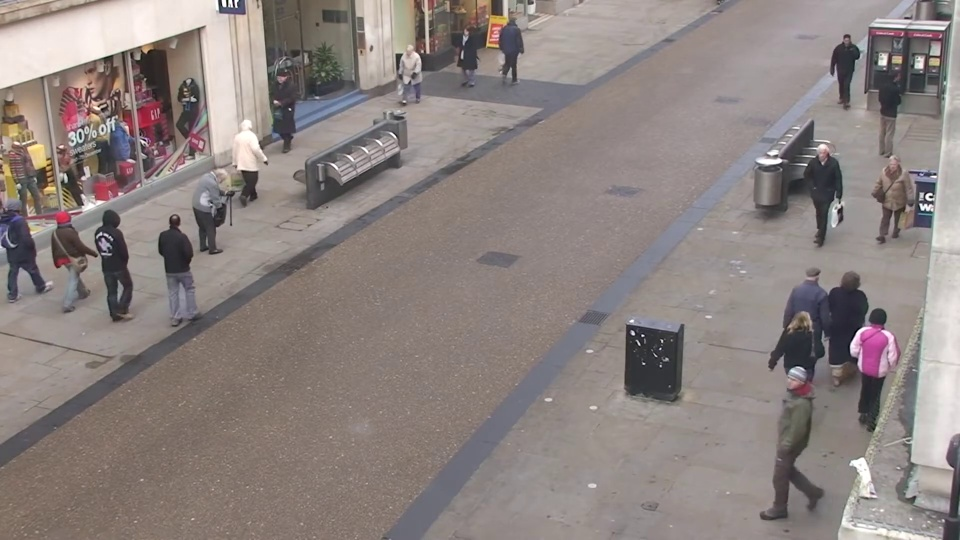pedestrian: (747, 360, 805, 521), (846, 295, 904, 440), (771, 299, 824, 443), (825, 262, 877, 398), (785, 252, 834, 384), (3, 189, 60, 302), (50, 200, 103, 315), (99, 204, 150, 320), (164, 205, 212, 322), (862, 155, 908, 263), (203, 163, 245, 269), (798, 145, 838, 249), (870, 67, 910, 153), (238, 112, 274, 205), (828, 33, 861, 110), (262, 69, 293, 150), (393, 42, 421, 117), (452, 26, 477, 96), (504, 12, 528, 79)
